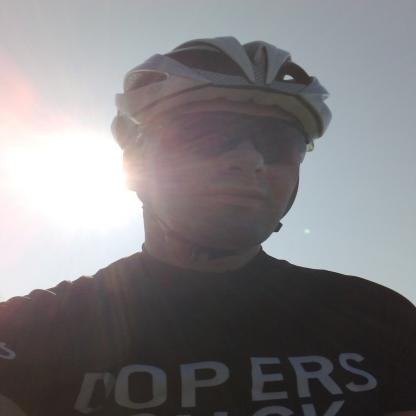Helmet: (107, 32, 328, 244)
